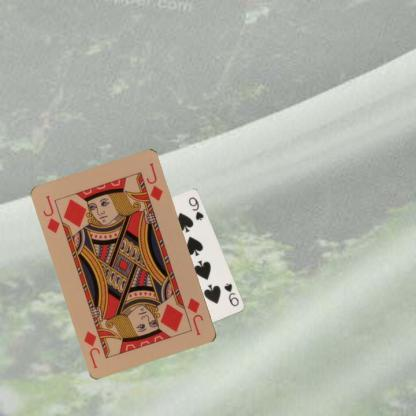9s: (222, 281, 240, 308)
Jd: (40, 192, 62, 235), (185, 296, 205, 338)
